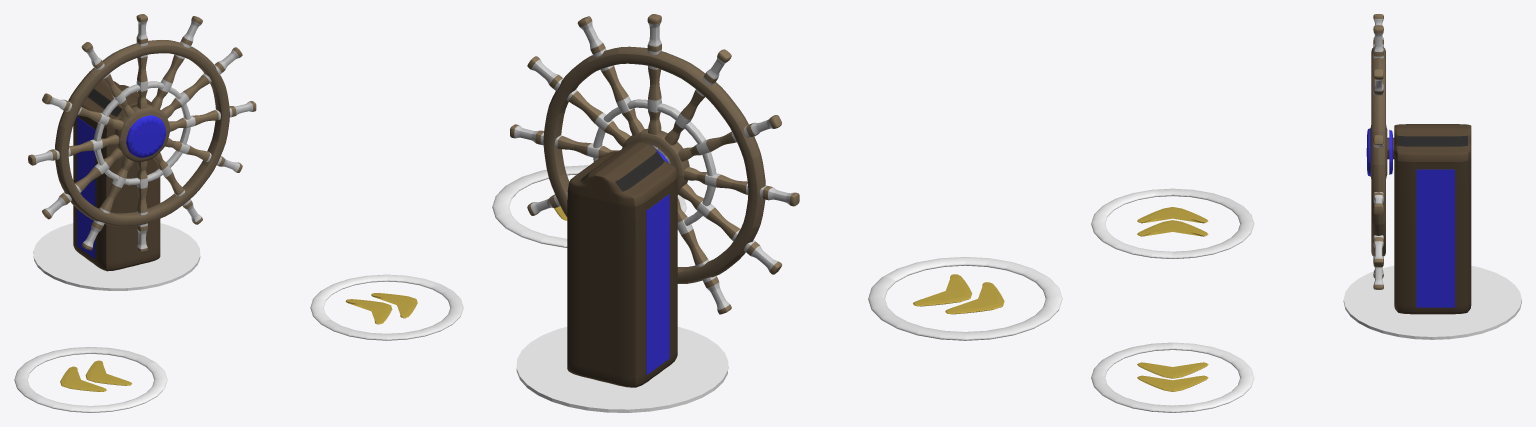
The picture shows the model from 3 angles, left to right: view 1: azimuth 30°, elevation 25°; view 2: azimuth 150°, elevation 25°; view 3: azimuth 270°, elevation 25°; orthographic projection. The views are drawn at different scales.
Visible parts, largest first — view 1: WHEEL, CARRIER, SOFT_PAD, DIRECTION_PAD_LEFT, DIRECTION_PAD_RIGHT, COLOR_CENTER, ARROW_RIGHT, ARROW_LEFT; view 2: WHEEL, CARRIER, SOFT_PAD, DIRECTION_PAD_LEFT, COLOR_CENTER, DIRECTION_PAD_RIGHT, ARROW_LEFT; view 3: CARRIER, SOFT_PAD, COLOR_CENTER, WHEEL, DIRECTION_PAD_RIGHT, DIRECTION_PAD_LEFT, ARROW_LEFT, ARROW_RIGHT.
Part boxes in pixels (<box>): WHEEL: <box>28,14,256,252</box>; CARRIER: <box>73,79,160,271</box>; SOFT_PAD: <box>33,223,200,290</box>; DIRECTION_PAD_LEFT: <box>14,347,167,412</box>; DIRECTION_PAD_RIGHT: <box>310,274,463,340</box>; COLOR_CENTER: <box>77,115,166,258</box>; ARROW_RIGHT: <box>345,293,417,324</box>; ARROW_LEFT: <box>60,360,131,391</box>; WHEEL: <box>510,14,799,314</box>; CARRIER: <box>567,141,677,387</box>; SOFT_PAD: <box>516,326,728,412</box>; DIRECTION_PAD_LEFT: <box>868,257,1062,340</box>; COLOR_CENTER: <box>646,149,669,375</box>; DIRECTION_PAD_RIGHT: <box>492,165,686,247</box>; ARROW_LEFT: <box>913,274,1004,314</box>; CARRIER: <box>1387,124,1471,314</box>; SOFT_PAD: <box>1343,265,1521,339</box>; COLOR_CENTER: <box>1366,128,1454,307</box>; WHEEL: <box>1370,14,1387,289</box>; DIRECTION_PAD_RIGHT: <box>1091,342,1254,412</box>; DIRECTION_PAD_LEFT: <box>1091,188,1254,258</box>; ARROW_LEFT: <box>1137,207,1208,236</box>; ARROW_RIGHT: <box>1137,362,1208,391</box>.
Size of the model in its own units: 2.03 by 1.17 by 1.66.
Materials: 2 (1 with a texture image).
